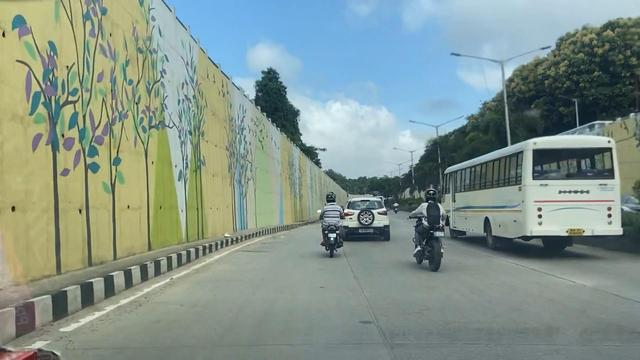HMV: (442, 137, 623, 251)
LMV: (412, 189, 443, 266), (344, 197, 392, 242), (315, 196, 341, 251)
